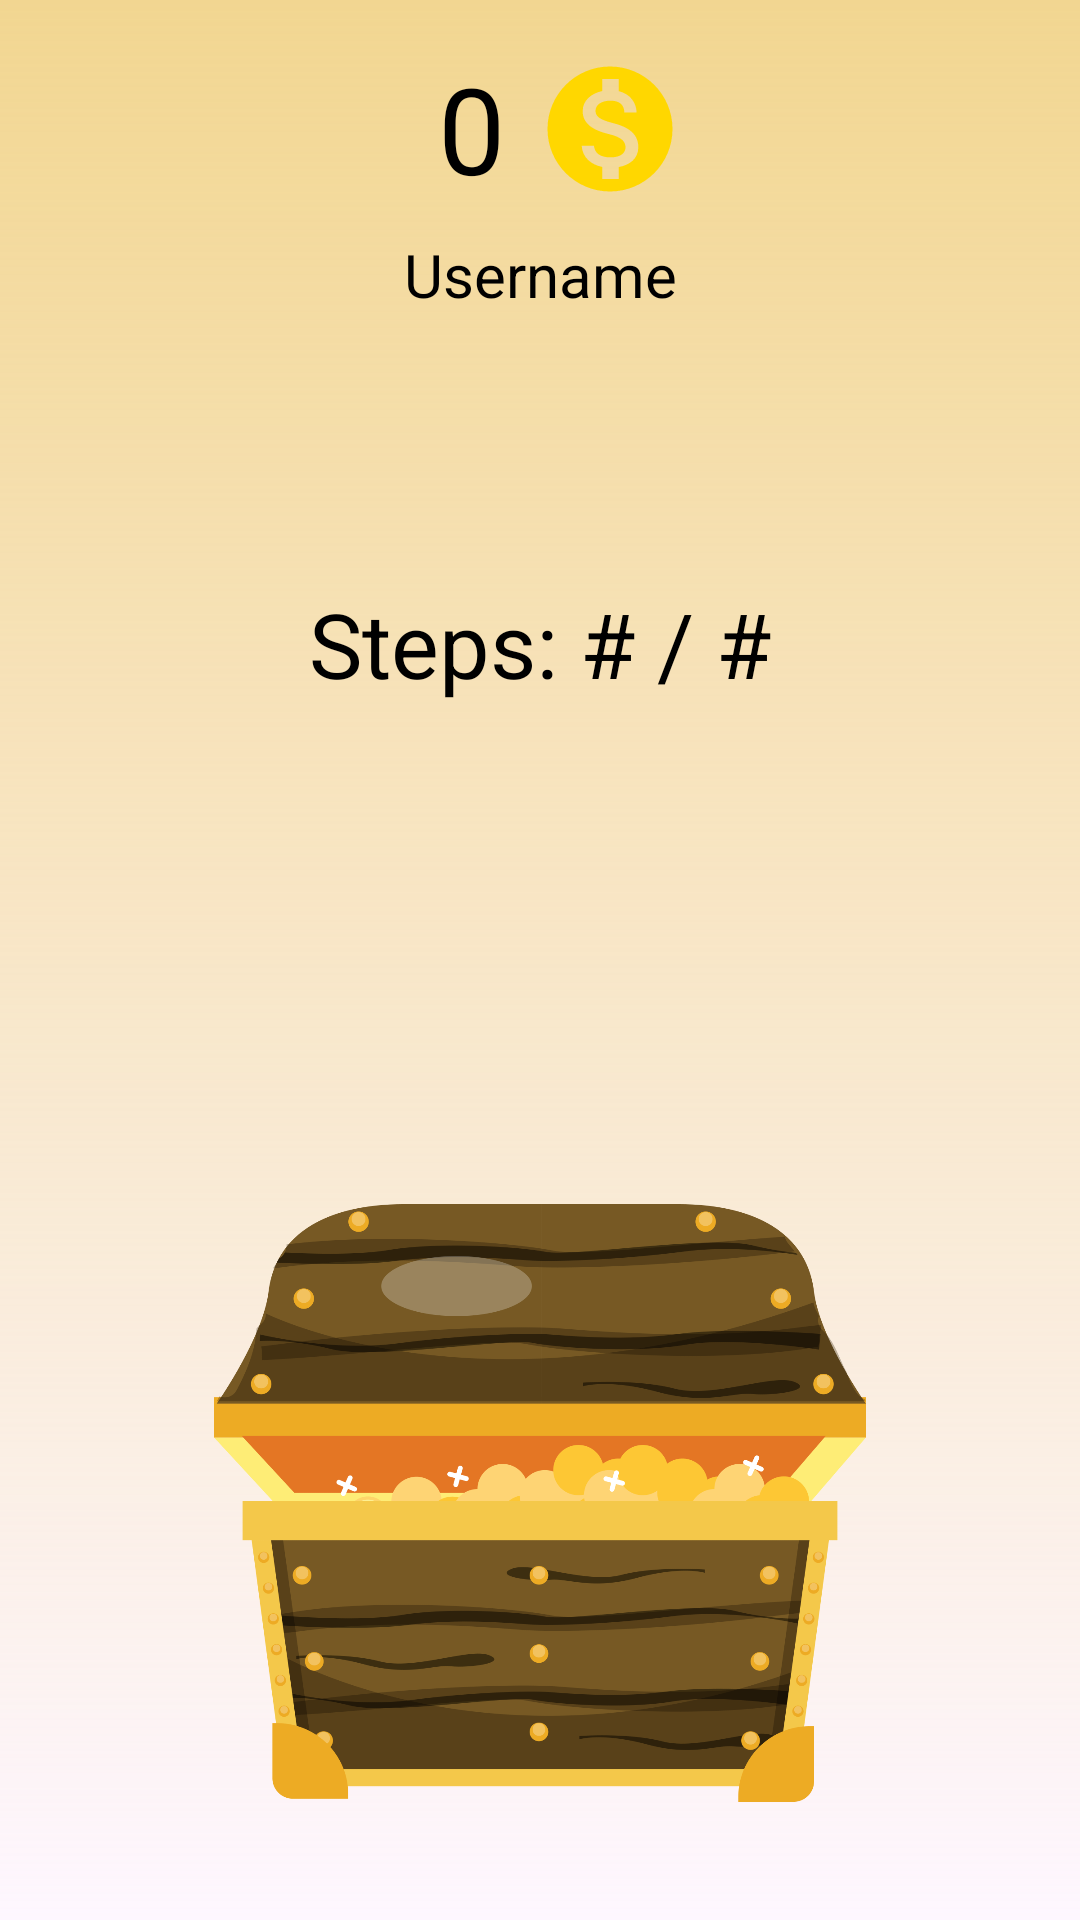

Icon click points for this 1080x1920 phone screenshot, format [x,y]:
monetization on: [610,129]
